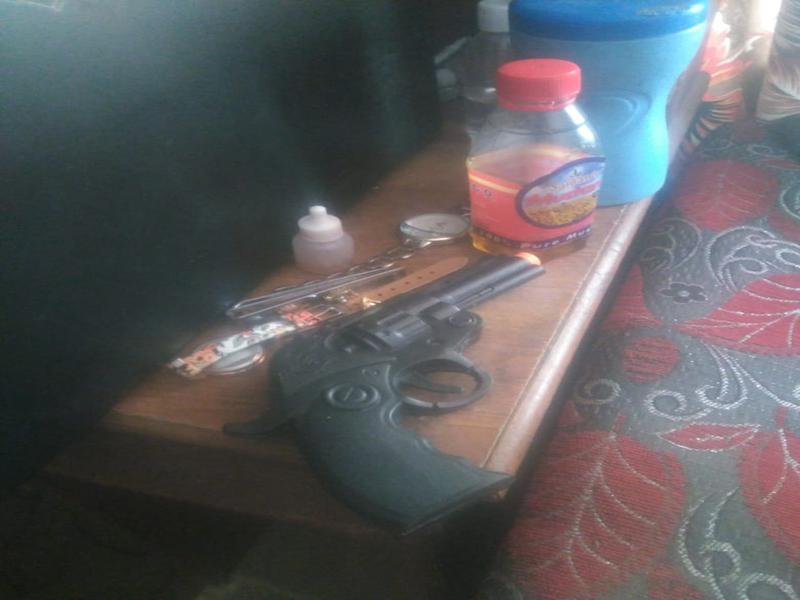gun: (282, 258, 564, 538)
